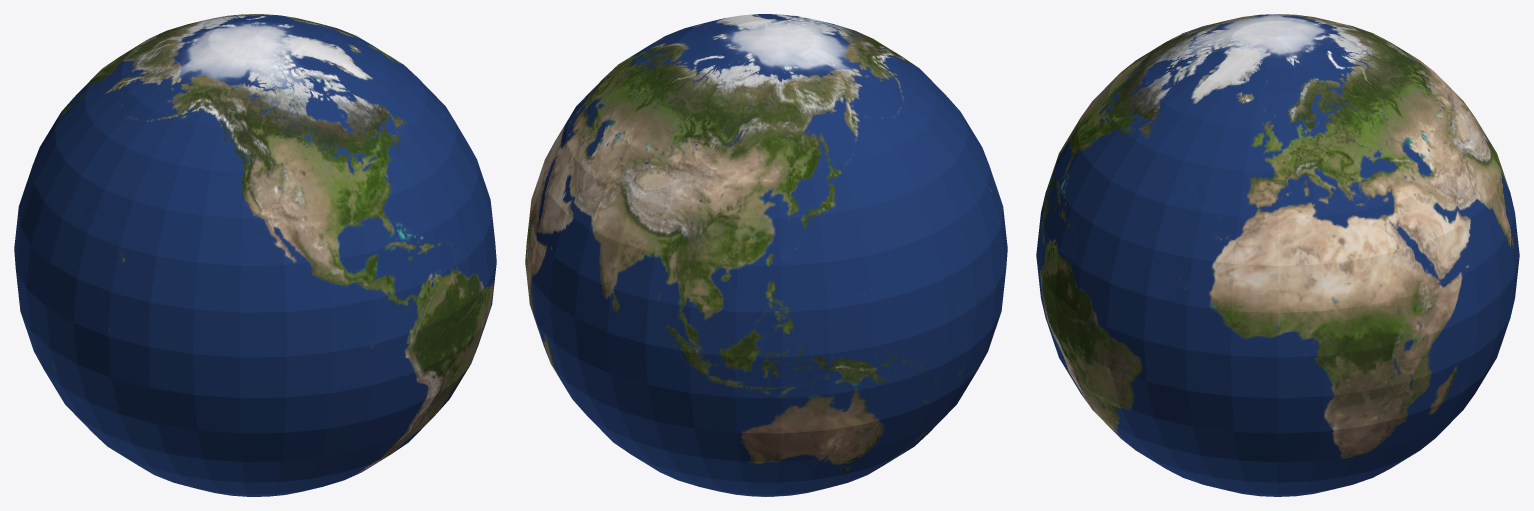
3 renders of one model, left to right at view 1: azimuth 30°, elevation 25°; view 2: azimuth 150°, elevation 25°; view 3: azimuth 270°, elevation 25°, orthographic.
Parts seen in each view (by area): view 1: Sphere; view 2: Sphere; view 3: Sphere.
Part boxes in pixels (x1,y1,x2,y2): Sphere: (14, 14, 496, 496); Sphere: (525, 14, 1007, 496); Sphere: (1036, 14, 1519, 496).
Bounding box in the file's own units: 2 × 2 × 2.
